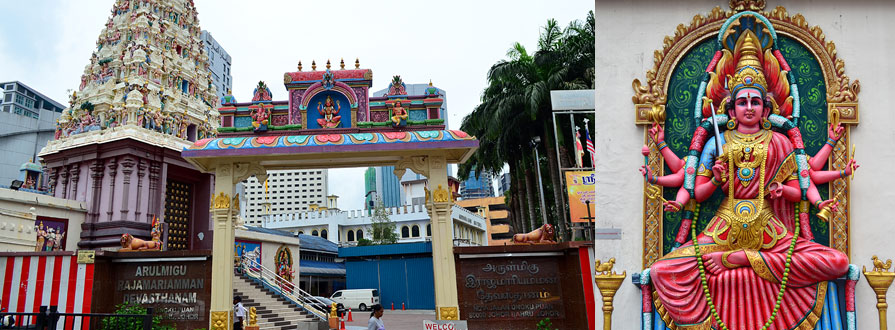Hindu Temple: (69, 1, 223, 229)
